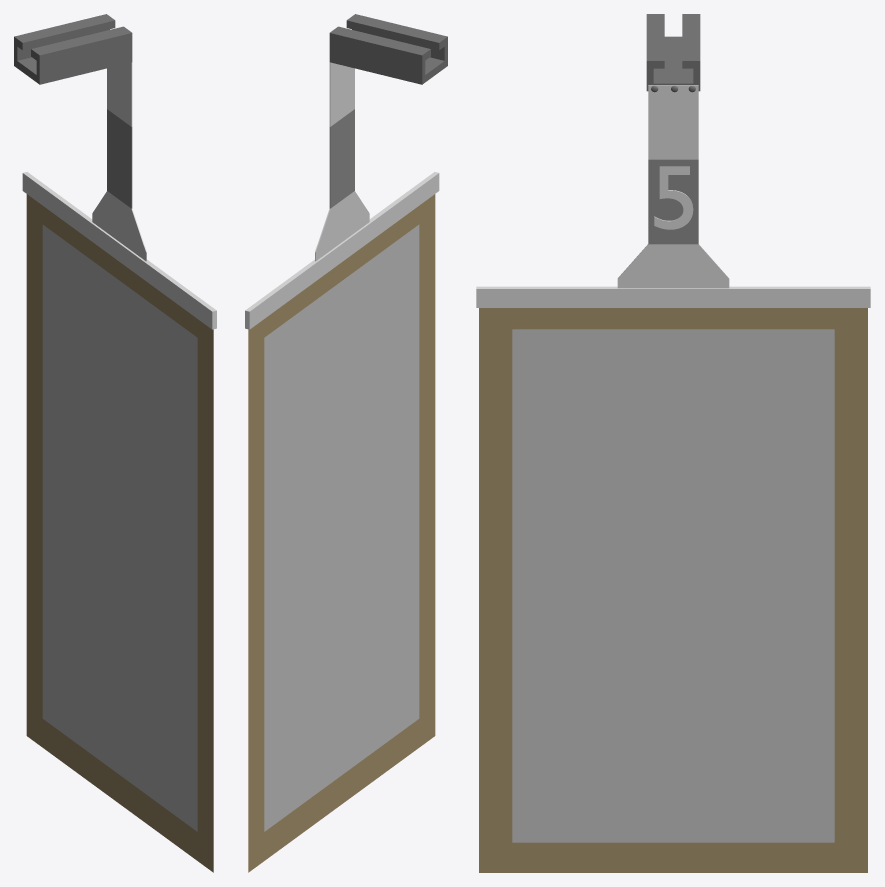
Rendered from Target 5.fbx.
3 renders of one model, left to right at view 1: azimuth 30°, elevation 25°; view 2: azimuth 150°, elevation 25°; view 3: azimuth 270°, elevation 25°, orthographic. The views are drawn at different scales.
Visible parts, largest first — view 1: Target 5; view 2: Target 5; view 3: Target 5.
Boxes of the visible parts, x1,y1,x2,y2 form: Target 5: (14,14,216,872); Target 5: (245,14,447,872); Target 5: (476,14,870,872).
Bounding box in the file's own units: 20.55 × 161 × 70.94.
